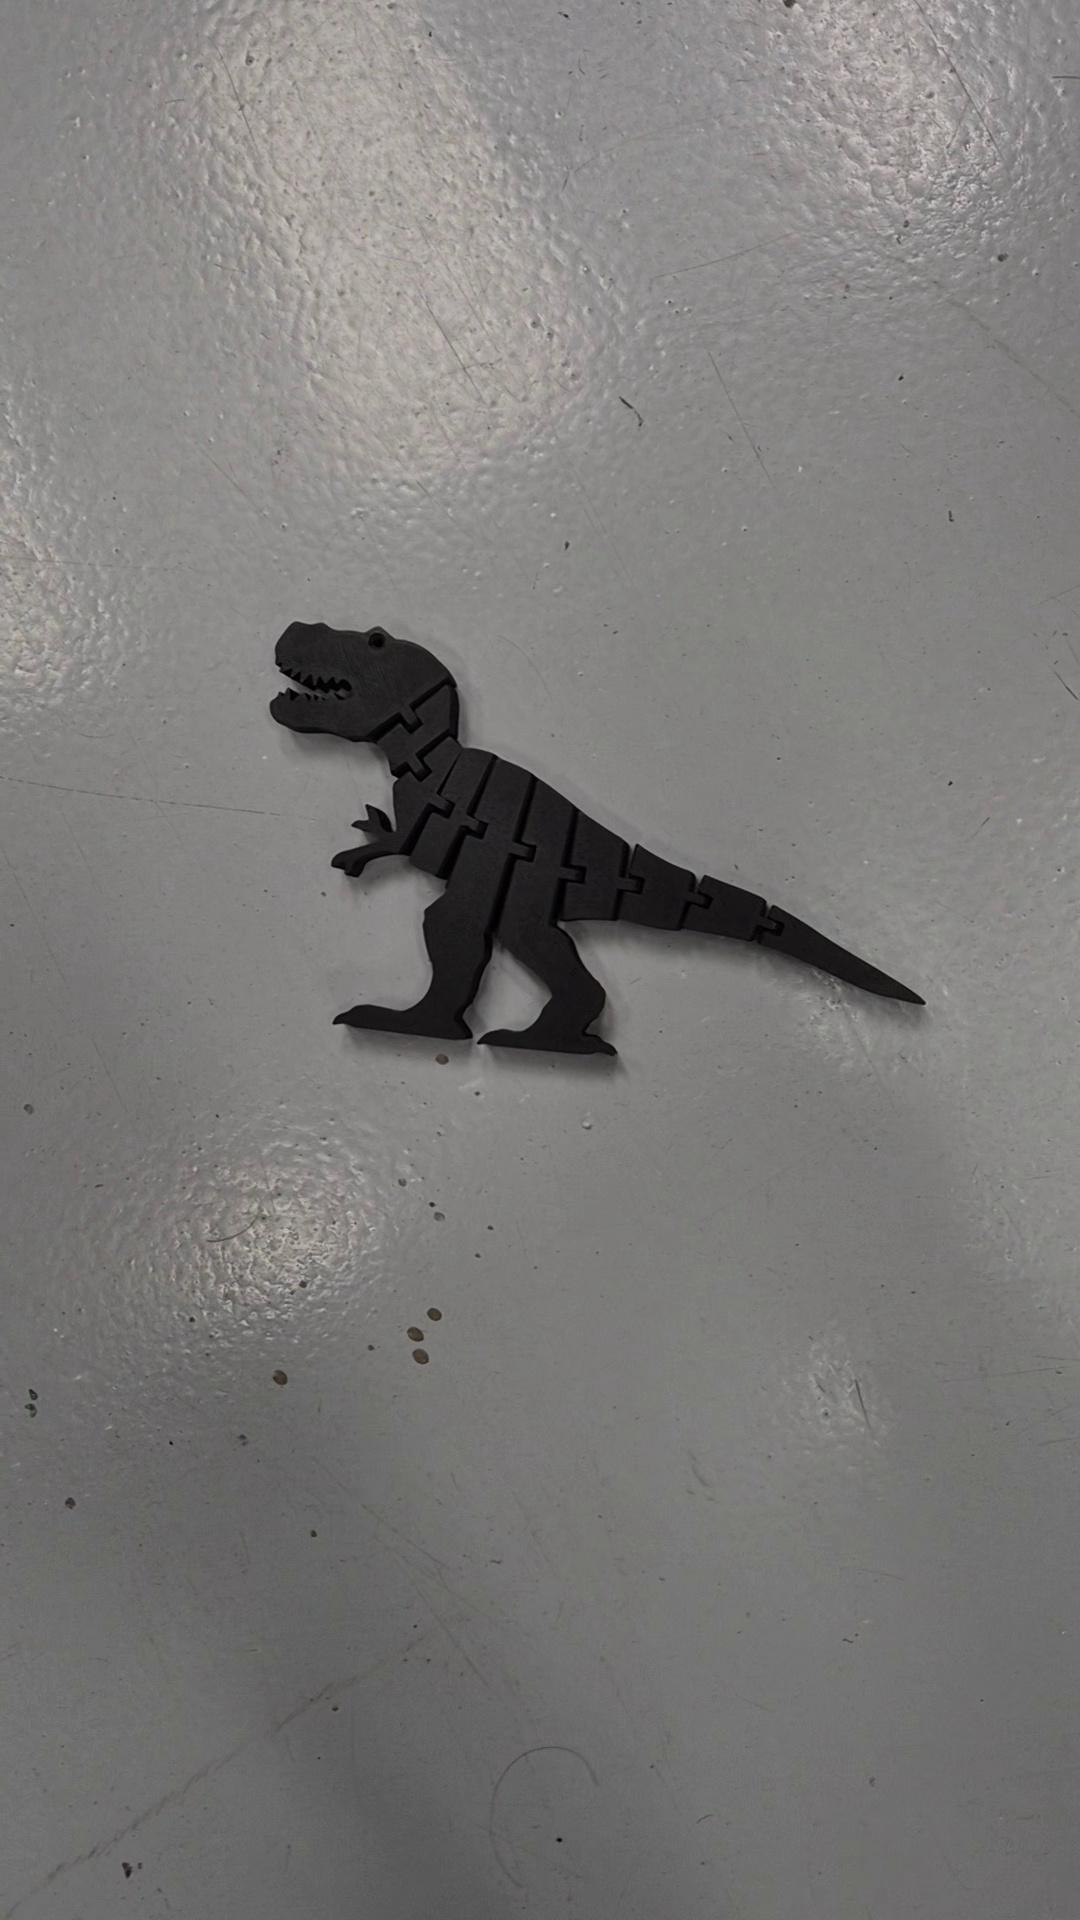dinosaur: (268, 618, 930, 1059)
